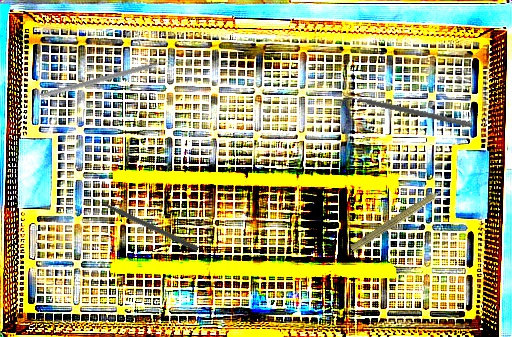Handpiece: (348, 179, 456, 257)
Pusher: (88, 193, 200, 252)
Spatula Surgical: (40, 54, 178, 105), (340, 88, 474, 128)
